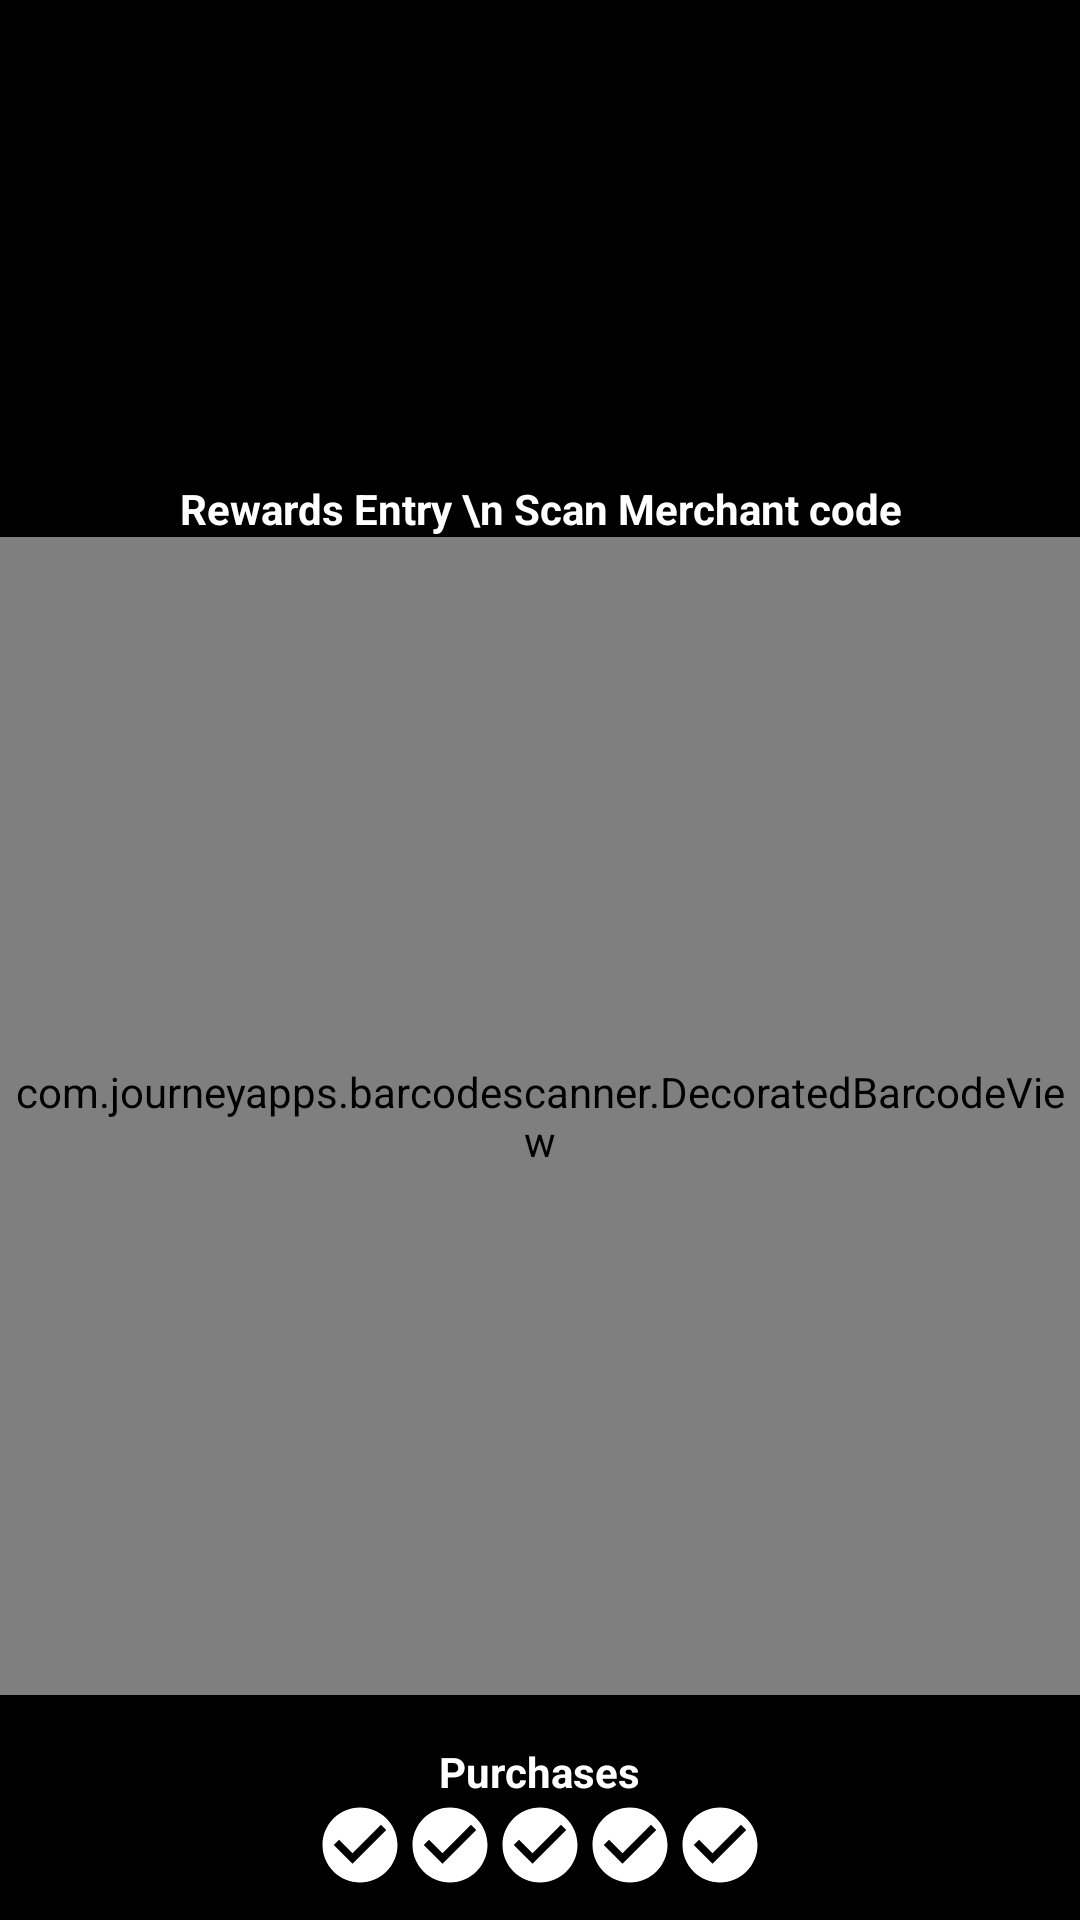

Icon click points for this 1080×1920 phone screenshot, format point (x, y):
check circle: point (360, 1845), point (450, 1845), point (540, 1845), point (630, 1845), point (720, 1845)
